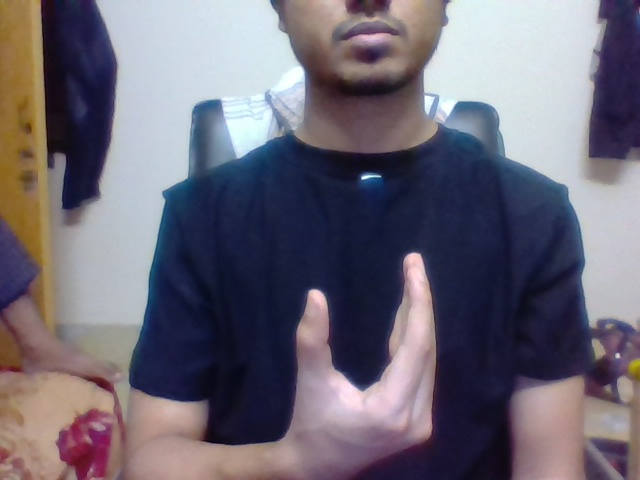U: (277, 235, 459, 407)
